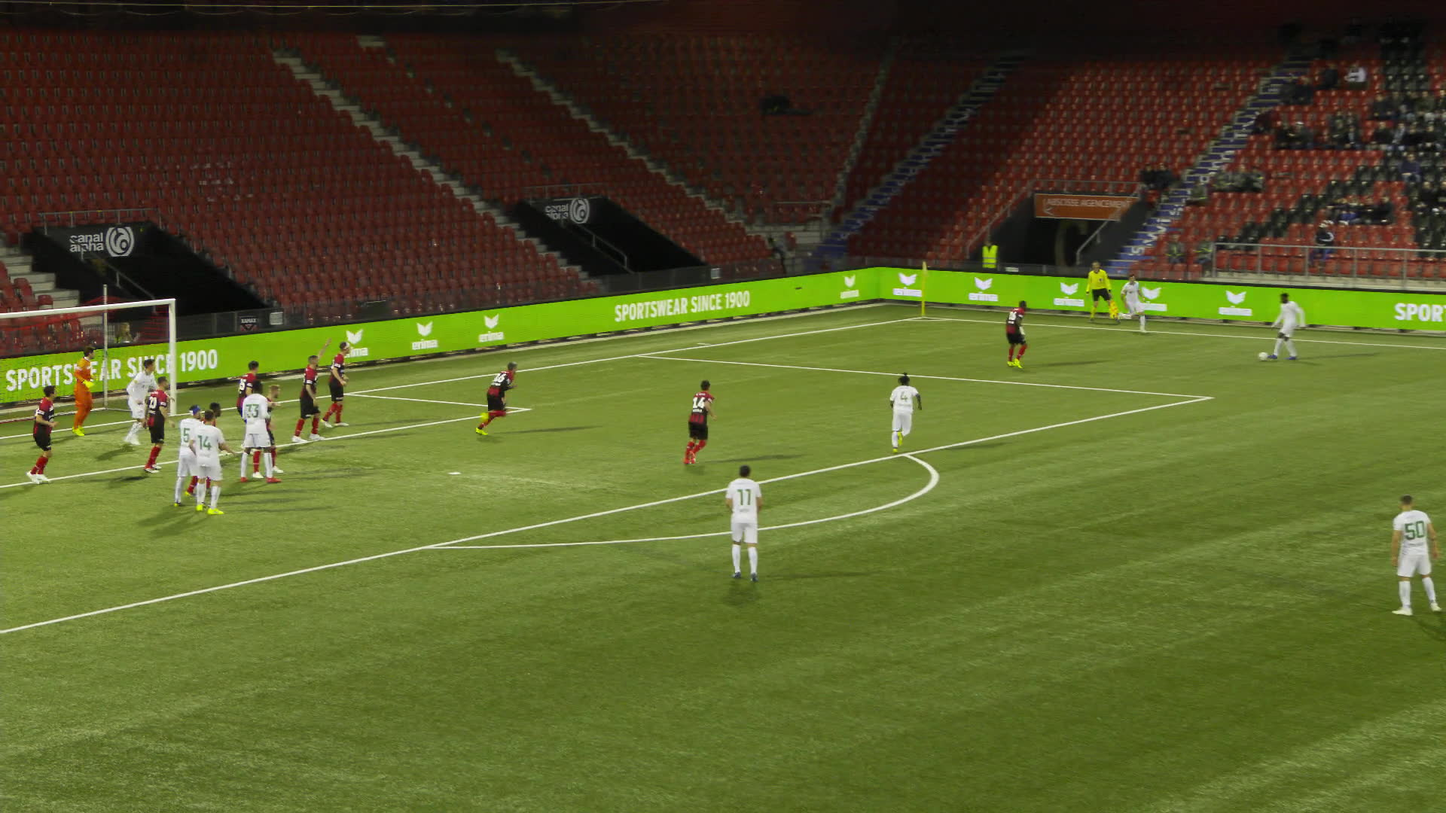ball: (1259, 352, 1268, 359)
player: (1392, 495, 1444, 615), (192, 410, 236, 515), (731, 467, 769, 583), (461, 358, 519, 434), (296, 338, 335, 443), (243, 380, 282, 484), (188, 402, 227, 498), (120, 358, 162, 446), (682, 381, 726, 465), (177, 405, 209, 508), (144, 375, 177, 473), (254, 383, 287, 480), (29, 387, 60, 483), (890, 371, 926, 452), (71, 346, 102, 438), (325, 341, 357, 428), (236, 360, 264, 453), (1272, 292, 1309, 360), (1004, 300, 1034, 370), (1121, 273, 1149, 331)
referee: (1088, 259, 1122, 325)
